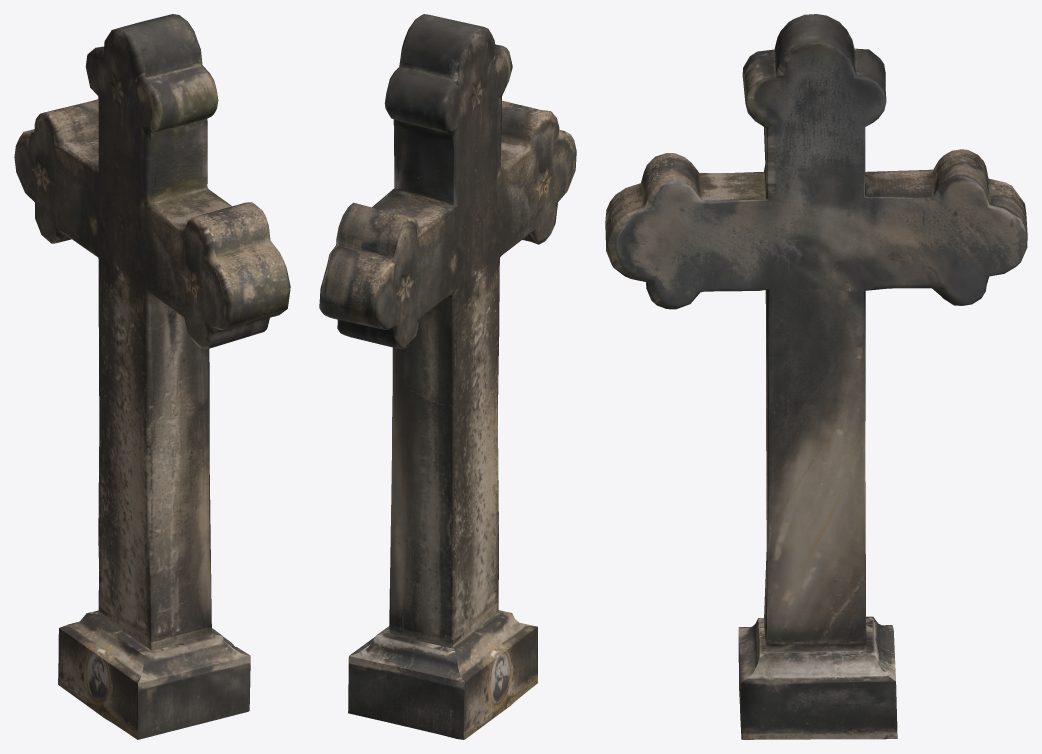
The model's file is sm_ColumnCross_01_02.fbx.
3 renders of one model, left to right at view 1: azimuth 30°, elevation 25°; view 2: azimuth 150°, elevation 25°; view 3: azimuth 270°, elevation 25°, orthographic.
Visible parts, largest first — view 1: sm_ColumnCross_01_02_LOD0; view 2: sm_ColumnCross_01_02_LOD0; view 3: sm_ColumnCross_01_02_LOD0.
Boxes of the visible parts, box(x1,y1,x2,y2) form: sm_ColumnCross_01_02_LOD0: box(14, 14, 290, 739); sm_ColumnCross_01_02_LOD0: box(319, 14, 576, 739); sm_ColumnCross_01_02_LOD0: box(605, 14, 1027, 739).
Bounding box in the file's own units: 20.82 × 64.41 × 115.
